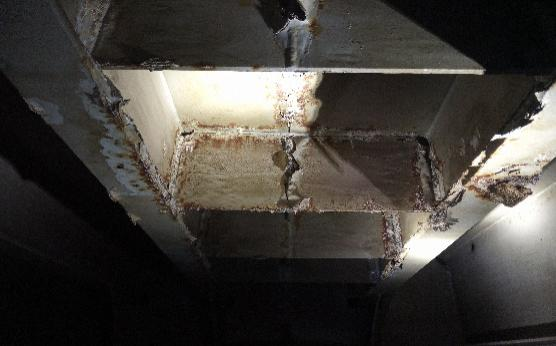corrosion: (82, 78, 168, 197), (269, 133, 316, 212), (404, 138, 451, 209), (466, 169, 541, 204), (373, 206, 412, 265), (188, 130, 267, 152), (166, 151, 193, 210), (428, 207, 466, 236)
